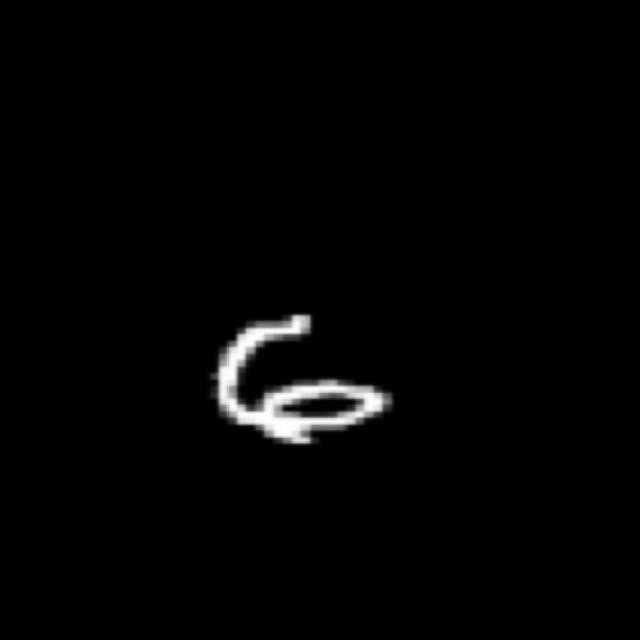six -6-: (196, 298, 404, 443)
